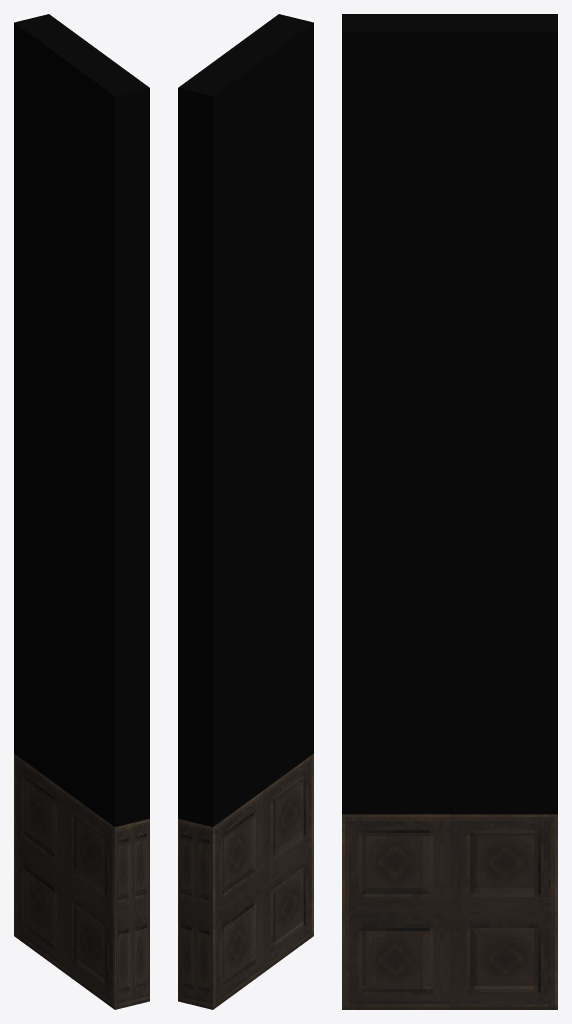
The model's file is door2.gltf.
3 views of the same model, side by side, from view 1: azimuth 30°, elevation 25°; view 2: azimuth 150°, elevation 25°; view 3: azimuth 270°, elevation 25° (orthographic). The views are drawn at different scales.
Parts seen in each view (by area): view 1: Cube.005, Cube.004; view 2: Cube.004, Cube.005; view 3: Cube.004, Cube.005.
Part boxes in pixels (x1,y1,x2,y2): Cube.005: (64, 51, 149, 1009); Cube.004: (14, 14, 98, 972); Cube.004: (178, 51, 263, 1009); Cube.005: (229, 14, 313, 972); Cube.004: (450, 14, 557, 1009); Cube.005: (342, 14, 449, 1009).
Size of the model in its own units: 0.4 by 10 by 2.
2 materials, 1 textured.
